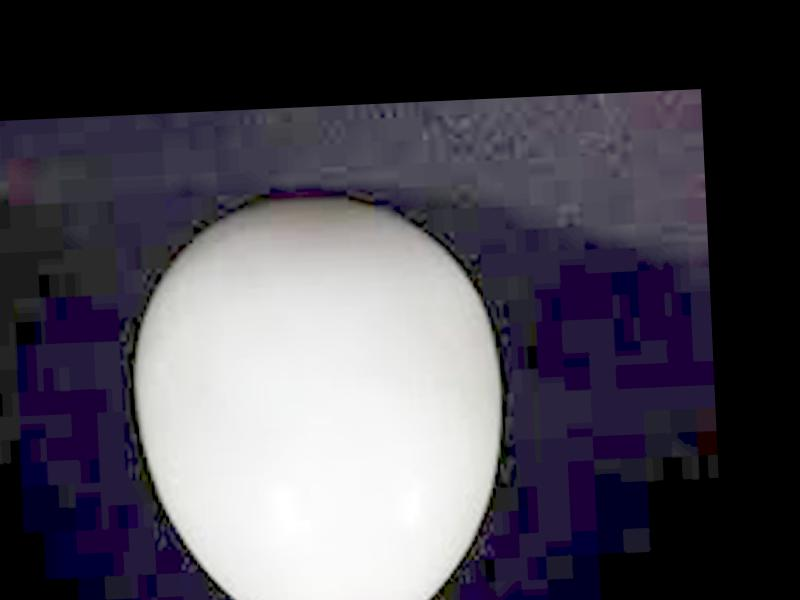Eggs: (133, 186, 507, 600)
